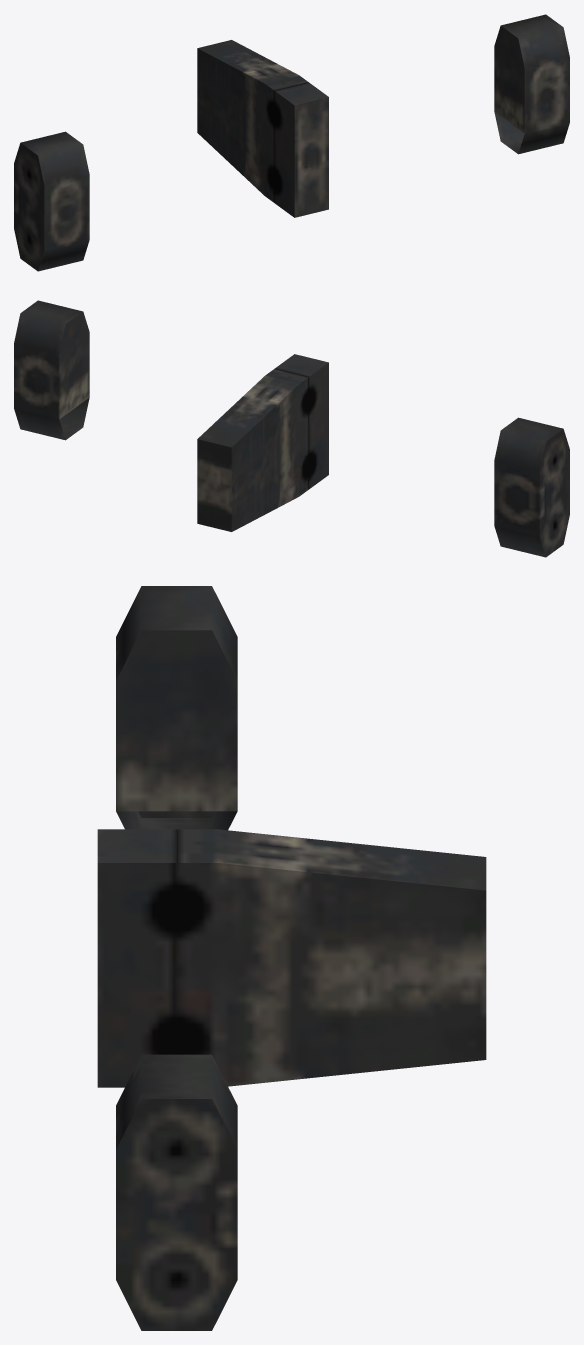
The model's file is segment_02_pair_1.glb.
The picture shows the model from 3 angles, top to bottom: view 1: azimuth 30°, elevation 25°; view 2: azimuth 150°, elevation 25°; view 3: azimuth 270°, elevation 25°; orthographic projection. The views are drawn at different scales.
Visible parts, largest first — view 1: set_0_group_0; view 2: set_0_group_0; view 3: set_0_group_0.
Boxes of the visible parts, bbox=[...] form: set_0_group_0: bbox=[14, 14, 569, 271]; set_0_group_0: bbox=[14, 300, 569, 557]; set_0_group_0: bbox=[97, 586, 486, 1330].
Bounding box in the file's own units: 0.58 × 0.1223 × 0.1858.
Materials: 1 (1 with a texture image).
